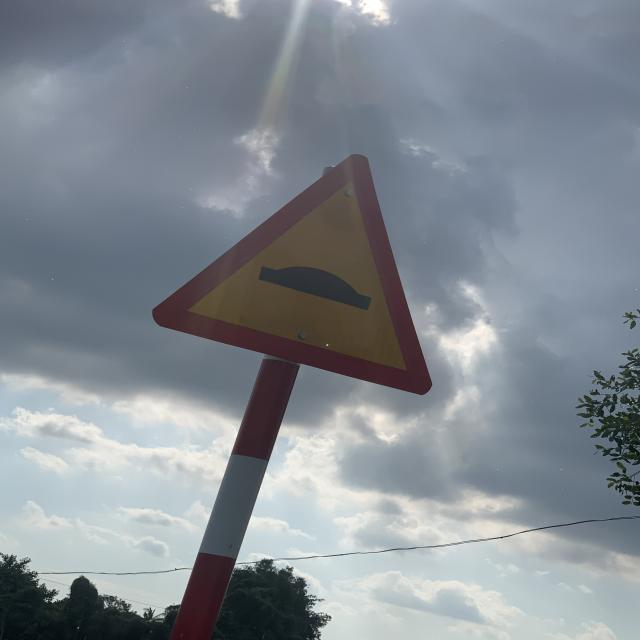Duong_Cong_Ben_Phai: (152, 150, 432, 394)
